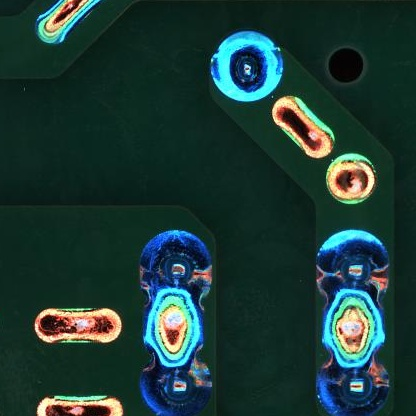spot: (210, 29, 286, 104), (314, 227, 390, 302), (138, 228, 212, 305), (315, 356, 392, 416), (139, 356, 212, 416)
